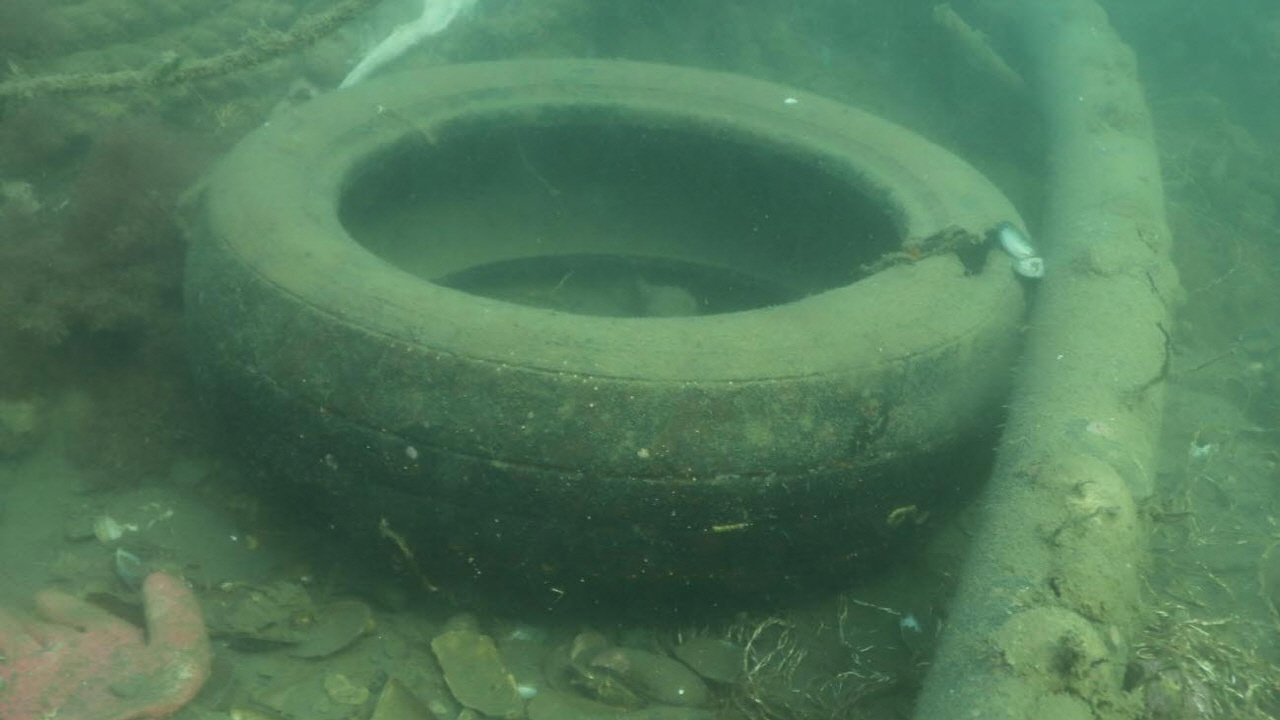bundle of ropes: (0, 0, 382, 153)
tire: (181, 56, 1034, 609)
